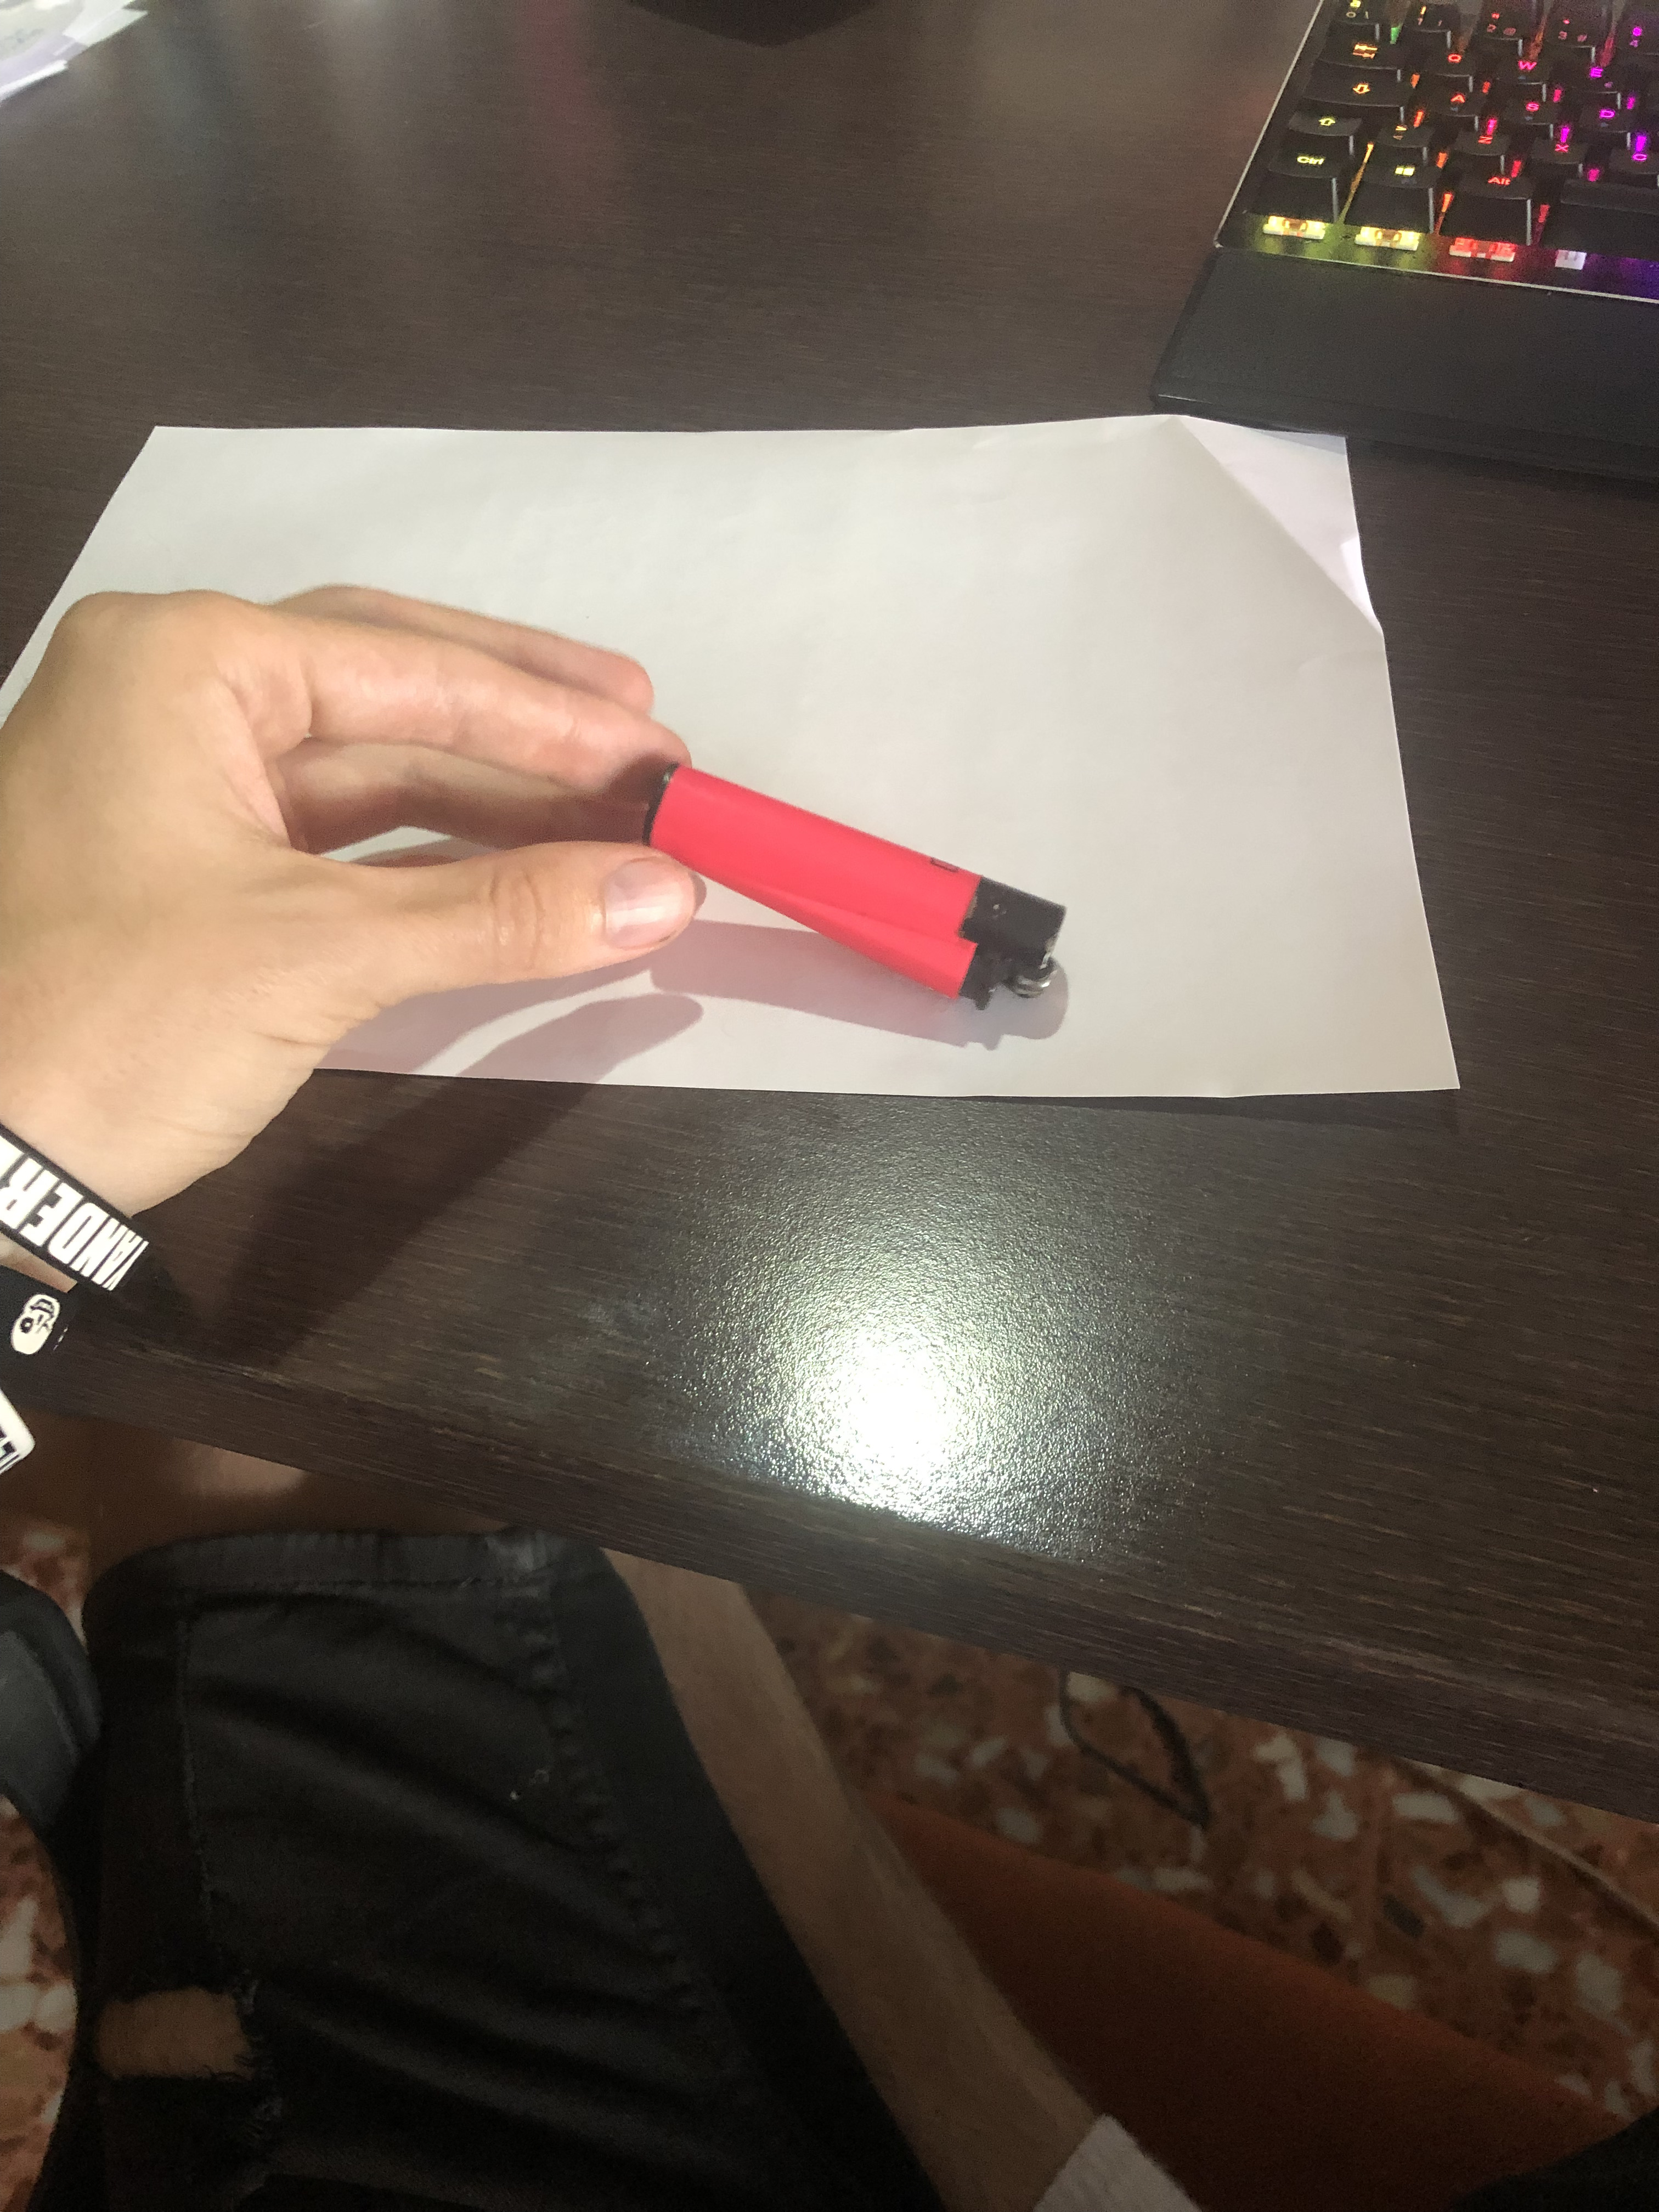Mechero: (647, 756, 1072, 1047)
